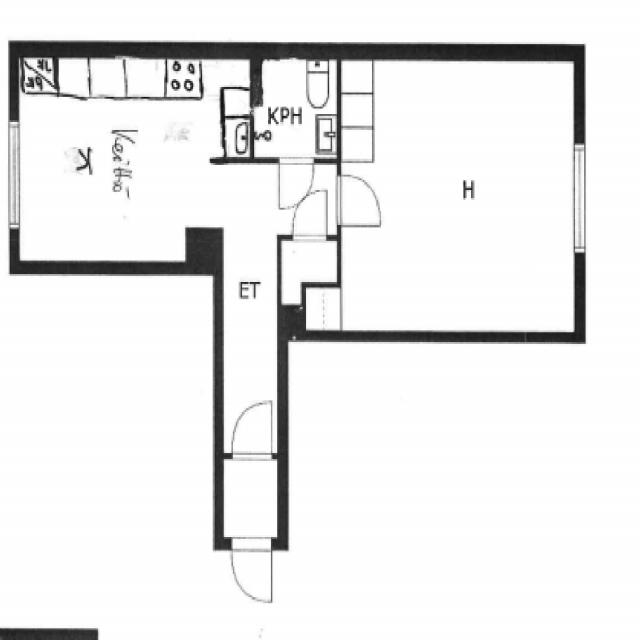door: (232, 538, 273, 602), (234, 401, 274, 459), (338, 174, 382, 226), (280, 157, 315, 208), (294, 192, 328, 241)
